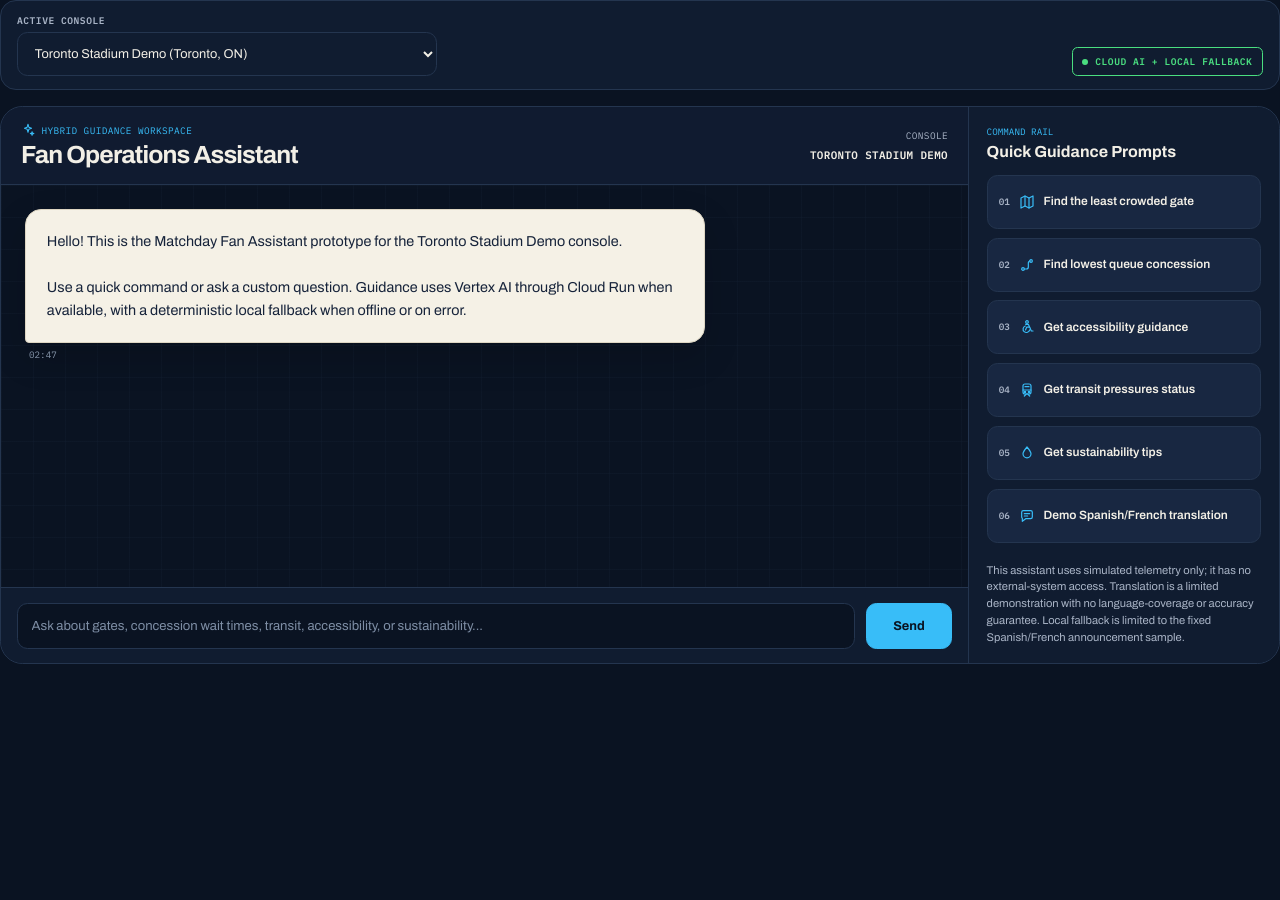
Scenario: Fan Assistant API Integration & Fallback Flow › switches to Local deterministic fallback on server error or network failure
The image size is (1280, 900).
Click the button "02 Find lowest queue concession".
click(1124, 265)  # box [987,238,1261,292]
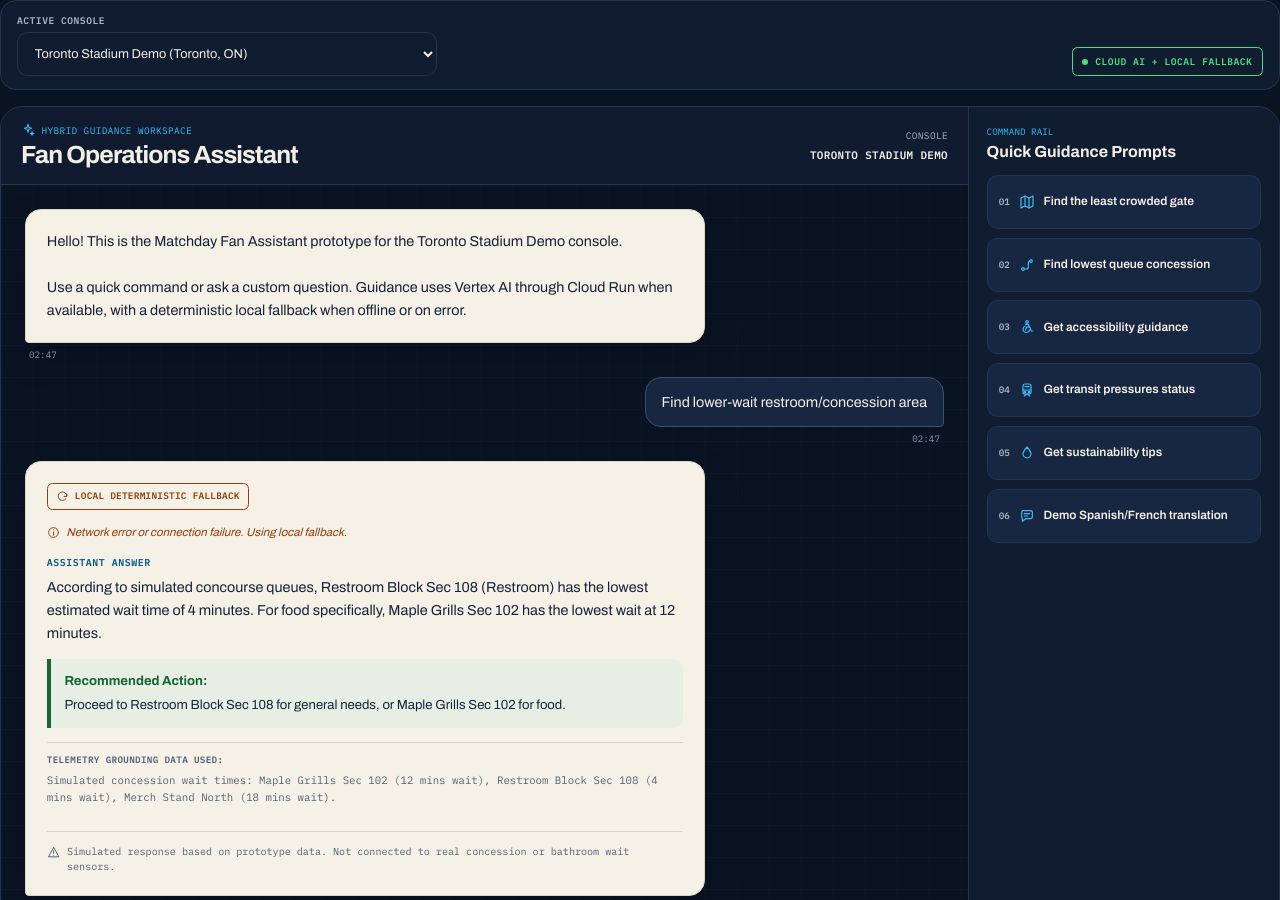
Now the text "Local deterministic fallback" is shown, box [47,483,249,510]
Now the text "Network error or connection failure. Using local fallback." is shown, box [47,526,347,539]
